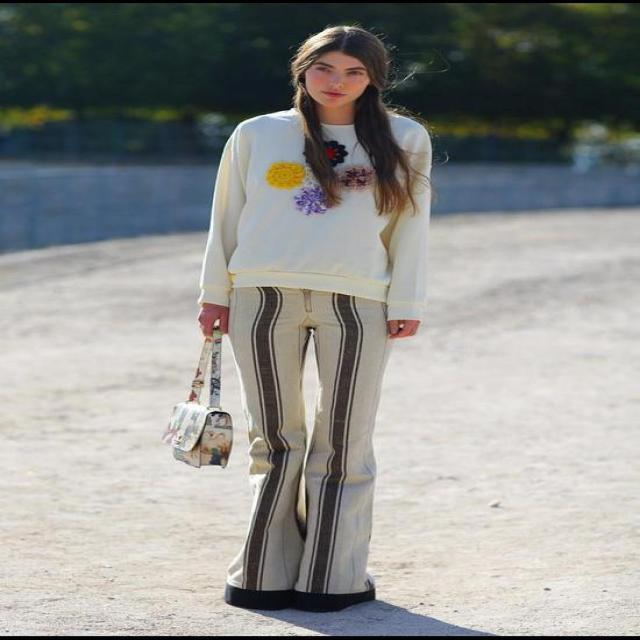Tshirt: (196, 106, 432, 321)
pants: (228, 270, 393, 592)
